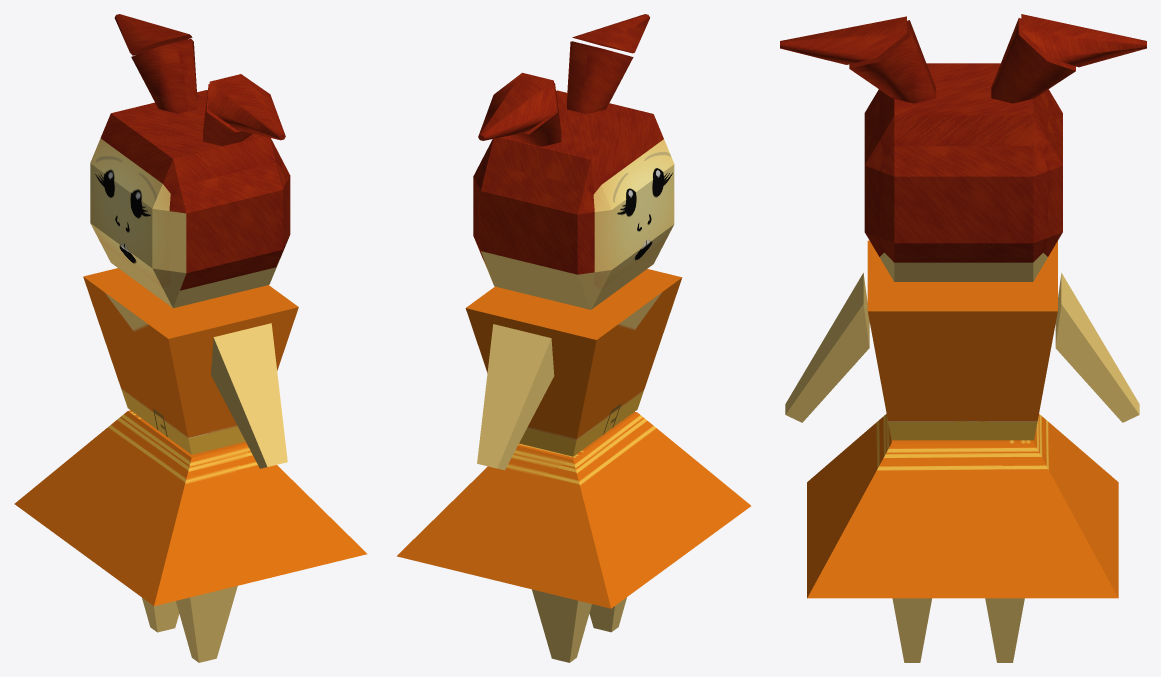
The model's file is girl_redhead_scared.FBX.
The picture shows the model from 3 angles, left to right: view 1: azimuth 30°, elevation 25°; view 2: azimuth 150°, elevation 25°; view 3: azimuth 270°, elevation 25°; orthographic projection. The views are drawn at different scales.
Visible parts, largest first — view 1: Box029, Box021, Box028, Cylinder003, Box030, Box026; view 2: Box029, Box021, Box028, Cylinder003, Box030, Box026; view 3: Box029, Box021, Box028, Cylinder003, Box030, Box026.
Boxes of the visible parts, <box> form: Box029: <box>14,410,367,605</box>; Box021: <box>90,90,290,308</box>; Box028: <box>83,268,298,454</box>; Cylinder003: <box>114,14,285,146</box>; Box030: <box>211,323,287,468</box>; Box026: <box>142,586,237,662</box>; Box029: <box>397,412,750,608</box>; Box021: <box>473,90,674,309</box>; Box028: <box>465,269,682,456</box>; Cylinder003: <box>478,14,649,146</box>; Box030: <box>477,324,554,470</box>; Box026: <box>532,589,626,662</box>; Box029: <box>807,414,1118,598</box>; Box021: <box>864,63,1062,281</box>; Box028: <box>867,240,1057,440</box>; Cylinder003: <box>780,14,1146,103</box>; Box030: <box>785,272,1139,422</box>; Box026: <box>892,598,1024,662</box>.
Size of the model in its own units: 19.84 by 51.41 by 26.45.
